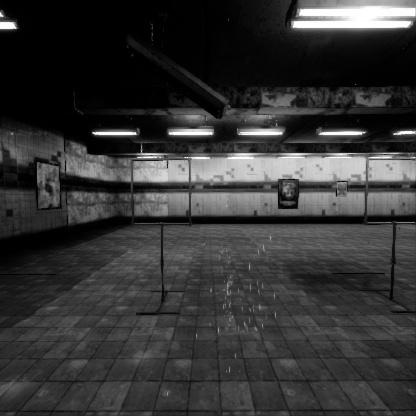gate: (130, 189, 197, 258), (364, 190, 416, 258)
